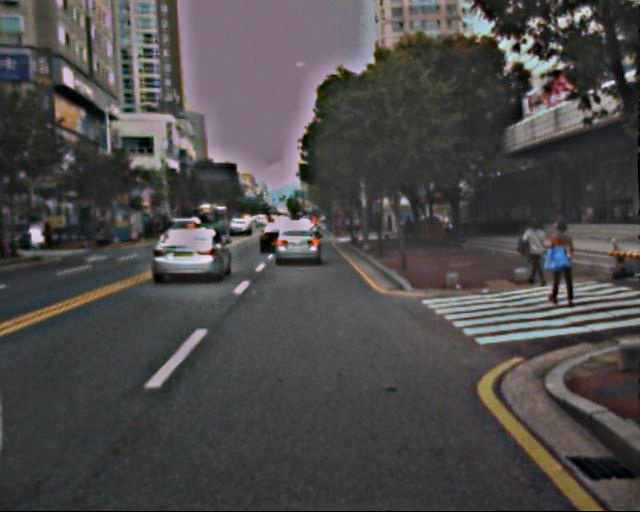person: (537, 217, 576, 312), (520, 217, 549, 288)
